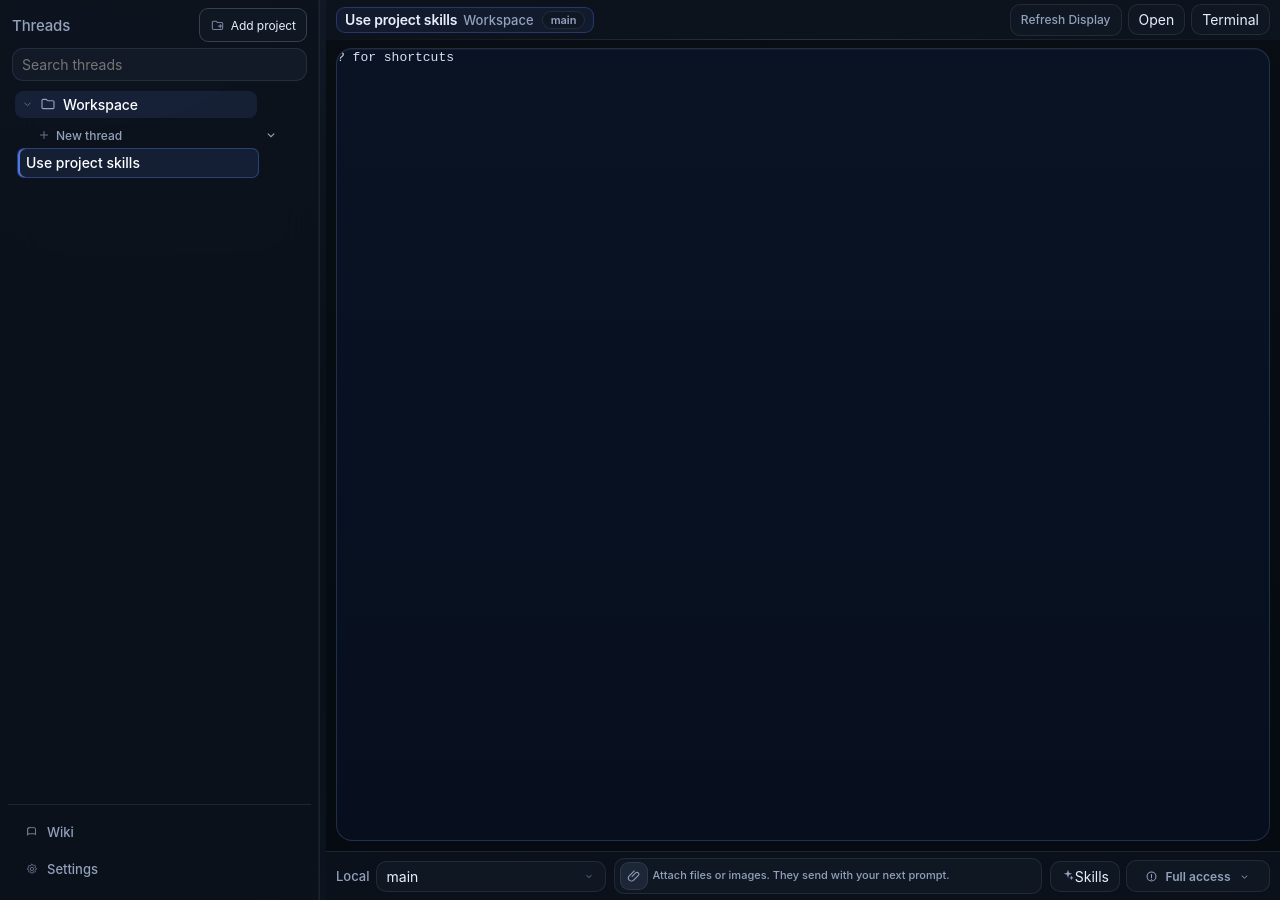
Scenario: Skills management › discovers repo skills and persists thread selection from the skills popover
Click the button "Skills" at (1085, 876), box x1=1050 y1=860 x2=1120 y2=892
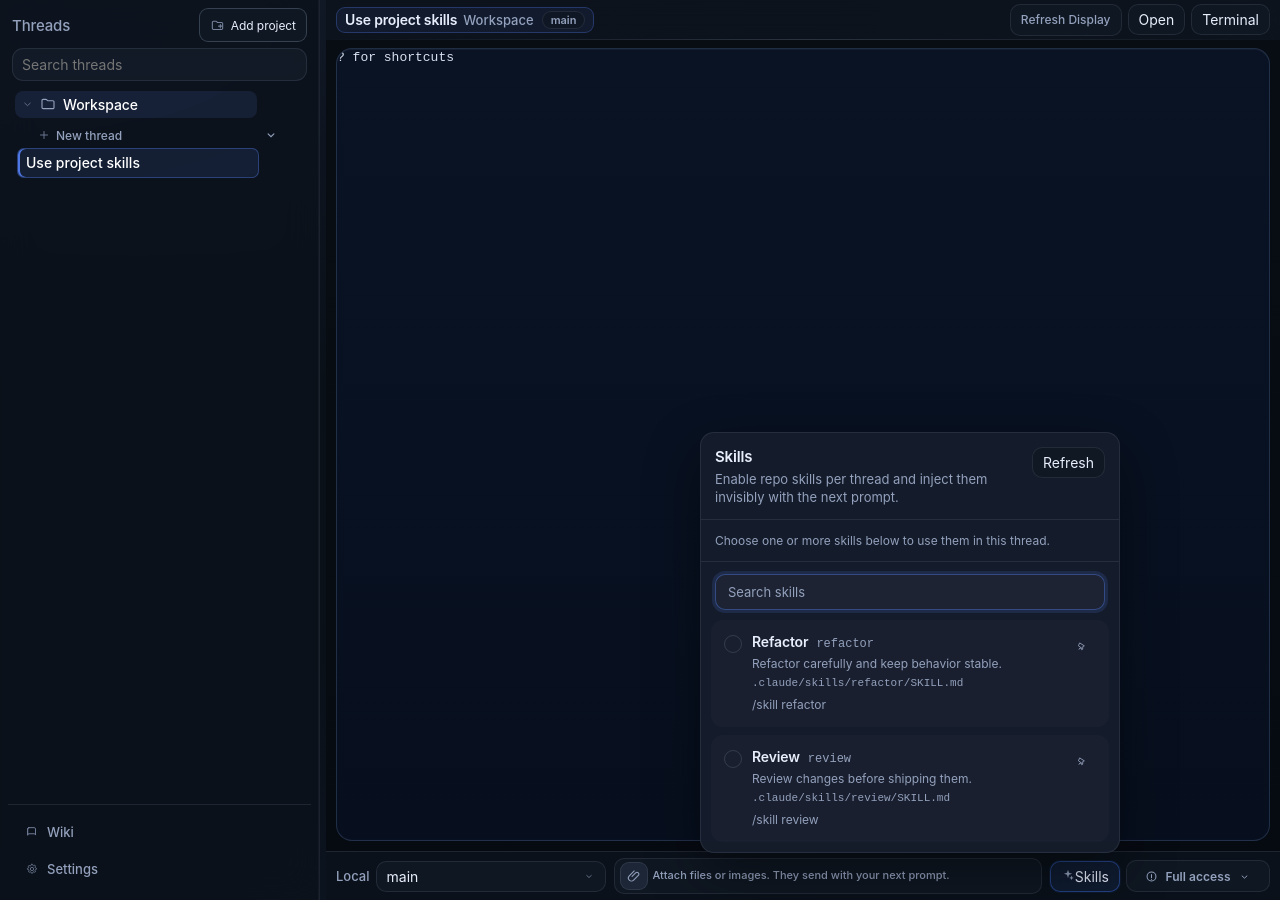
Expected: the text "Review" is shown, x1=752 y1=748 x2=800 y2=765
Expected: the text ".claude/skills/review/SKILL.md" is shown, x1=752 y1=791 x2=972 y2=807
Click the button "Review" at (885, 788), box x1=712 y1=736 x2=1058 y2=840
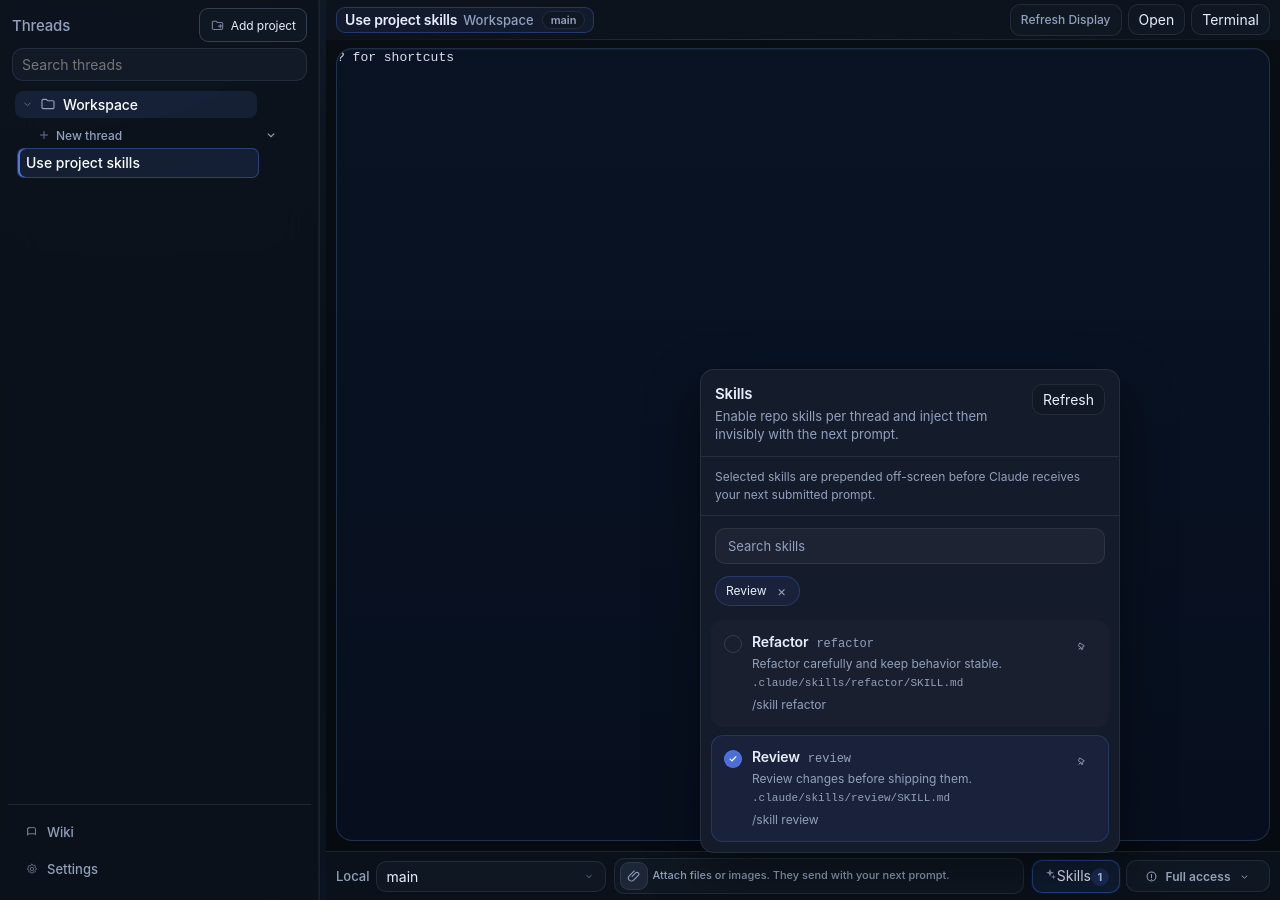
Expected: the text "selected skills are prepended off-screen before claude receives your next submitted prompt" is shown, x1=715 y1=469 x2=1080 y2=502
